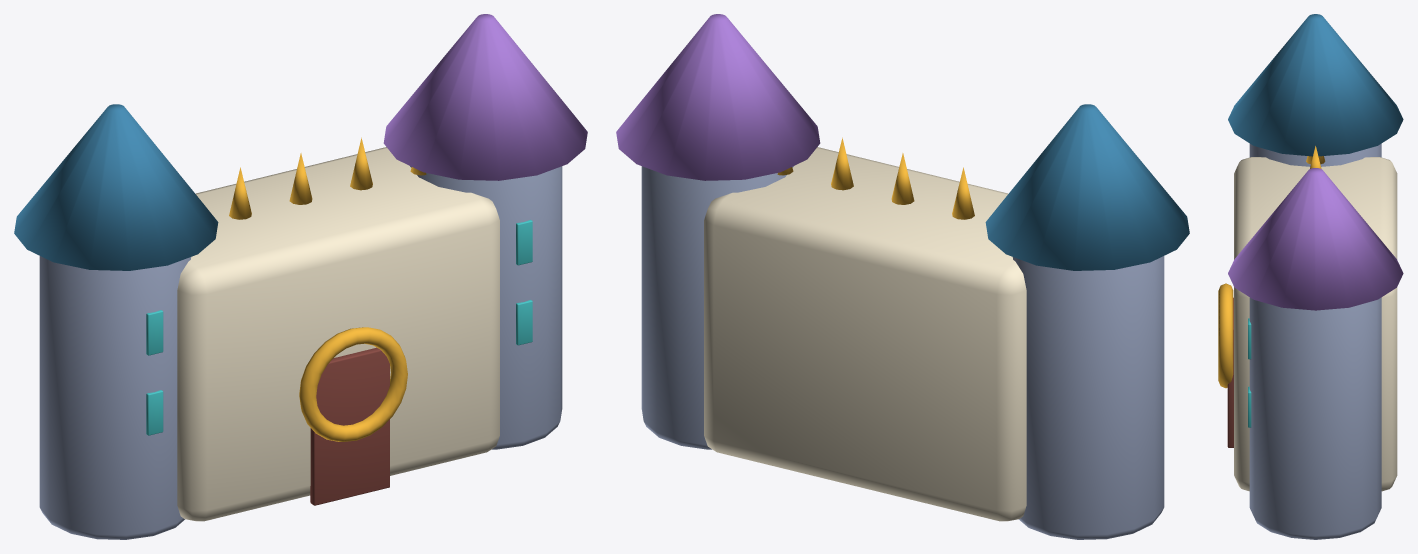
Rendered from r015_sky_lagoon_main_castle_sky_castle.glb.
3 renders of one model, left to right at view 1: azimuth 30°, elevation 25°; view 2: azimuth 150°, elevation 25°; view 3: azimuth 270°, elevation 25°, orthographic. The views are drawn at different scales.
Parts seen in each view (by area): view 1: r015_sky_lagoon_main_castle_sky_castle.001; view 2: r015_sky_lagoon_main_castle_sky_castle.001; view 3: r015_sky_lagoon_main_castle_sky_castle.001.
Boxes of the visible parts, x1,y1,x2,y2 form: r015_sky_lagoon_main_castle_sky_castle.001: [14, 14, 587, 539]; r015_sky_lagoon_main_castle_sky_castle.001: [616, 14, 1189, 539]; r015_sky_lagoon_main_castle_sky_castle.001: [1218, 14, 1403, 539].
Size of the model in its own units: 8.6 by 6.05 by 2.95.
